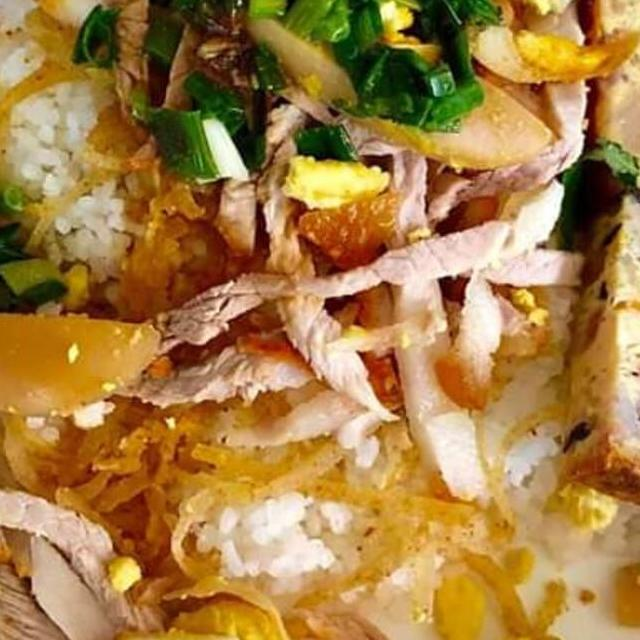cha: (558, 181, 640, 565), (562, 0, 640, 292)
com: (0, 2, 162, 333), (195, 400, 415, 600)
com suon bi cha trung: (0, 0, 640, 640)
suon: (107, 0, 597, 517), (0, 465, 175, 640)
trung: (229, 0, 640, 190), (102, 565, 419, 640), (0, 291, 165, 421)
